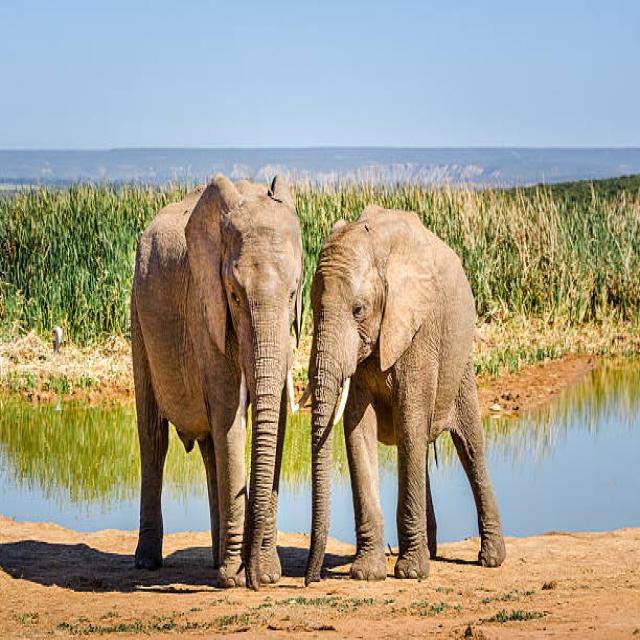Elephant: (302, 193, 524, 603), (120, 155, 308, 620)
